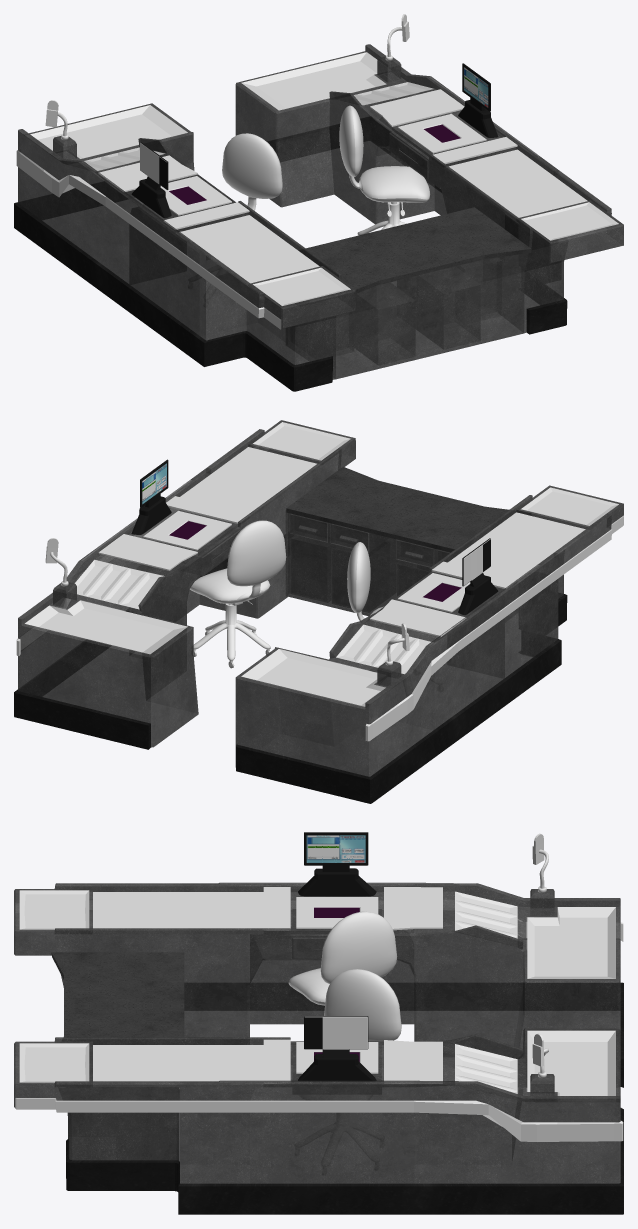
The model's file is Supermarket Checkout 1.fbx.
The picture shows the model from 3 angles, top to bottom: view 1: azimuth 30°, elevation 25°; view 2: azimuth 150°, elevation 25°; view 3: azimuth 270°, elevation 25°; orthographic projection. The views are drawn at different scales.
Parts seen in each view (by area): view 1: Double Checkout; view 2: Double Checkout; view 3: Double Checkout.
Boxes of the visible parts, bbox=[...] form: Double Checkout: bbox=[14, 14, 623, 391]; Double Checkout: bbox=[14, 420, 623, 803]; Double Checkout: bbox=[14, 832, 623, 1214].
Size of the model in its own units: 888 by 376 by 1102.
19 materials, 4 textured.
